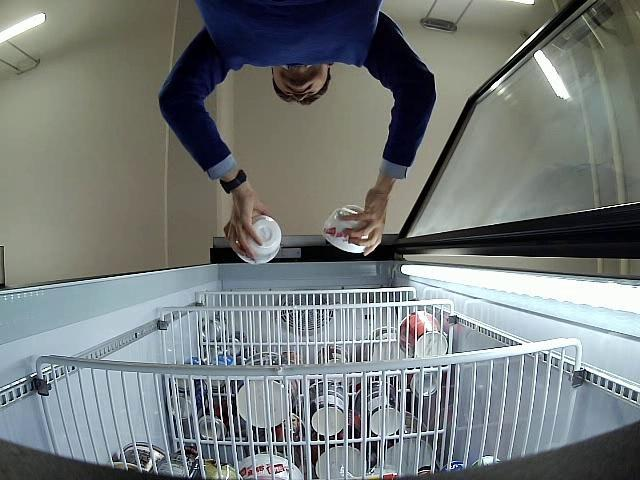09_yukGaeJang: (236, 214, 282, 263), (324, 206, 368, 254)
